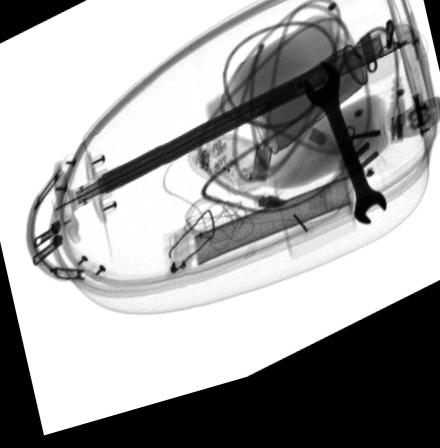Wrench: (301, 77, 385, 245)
